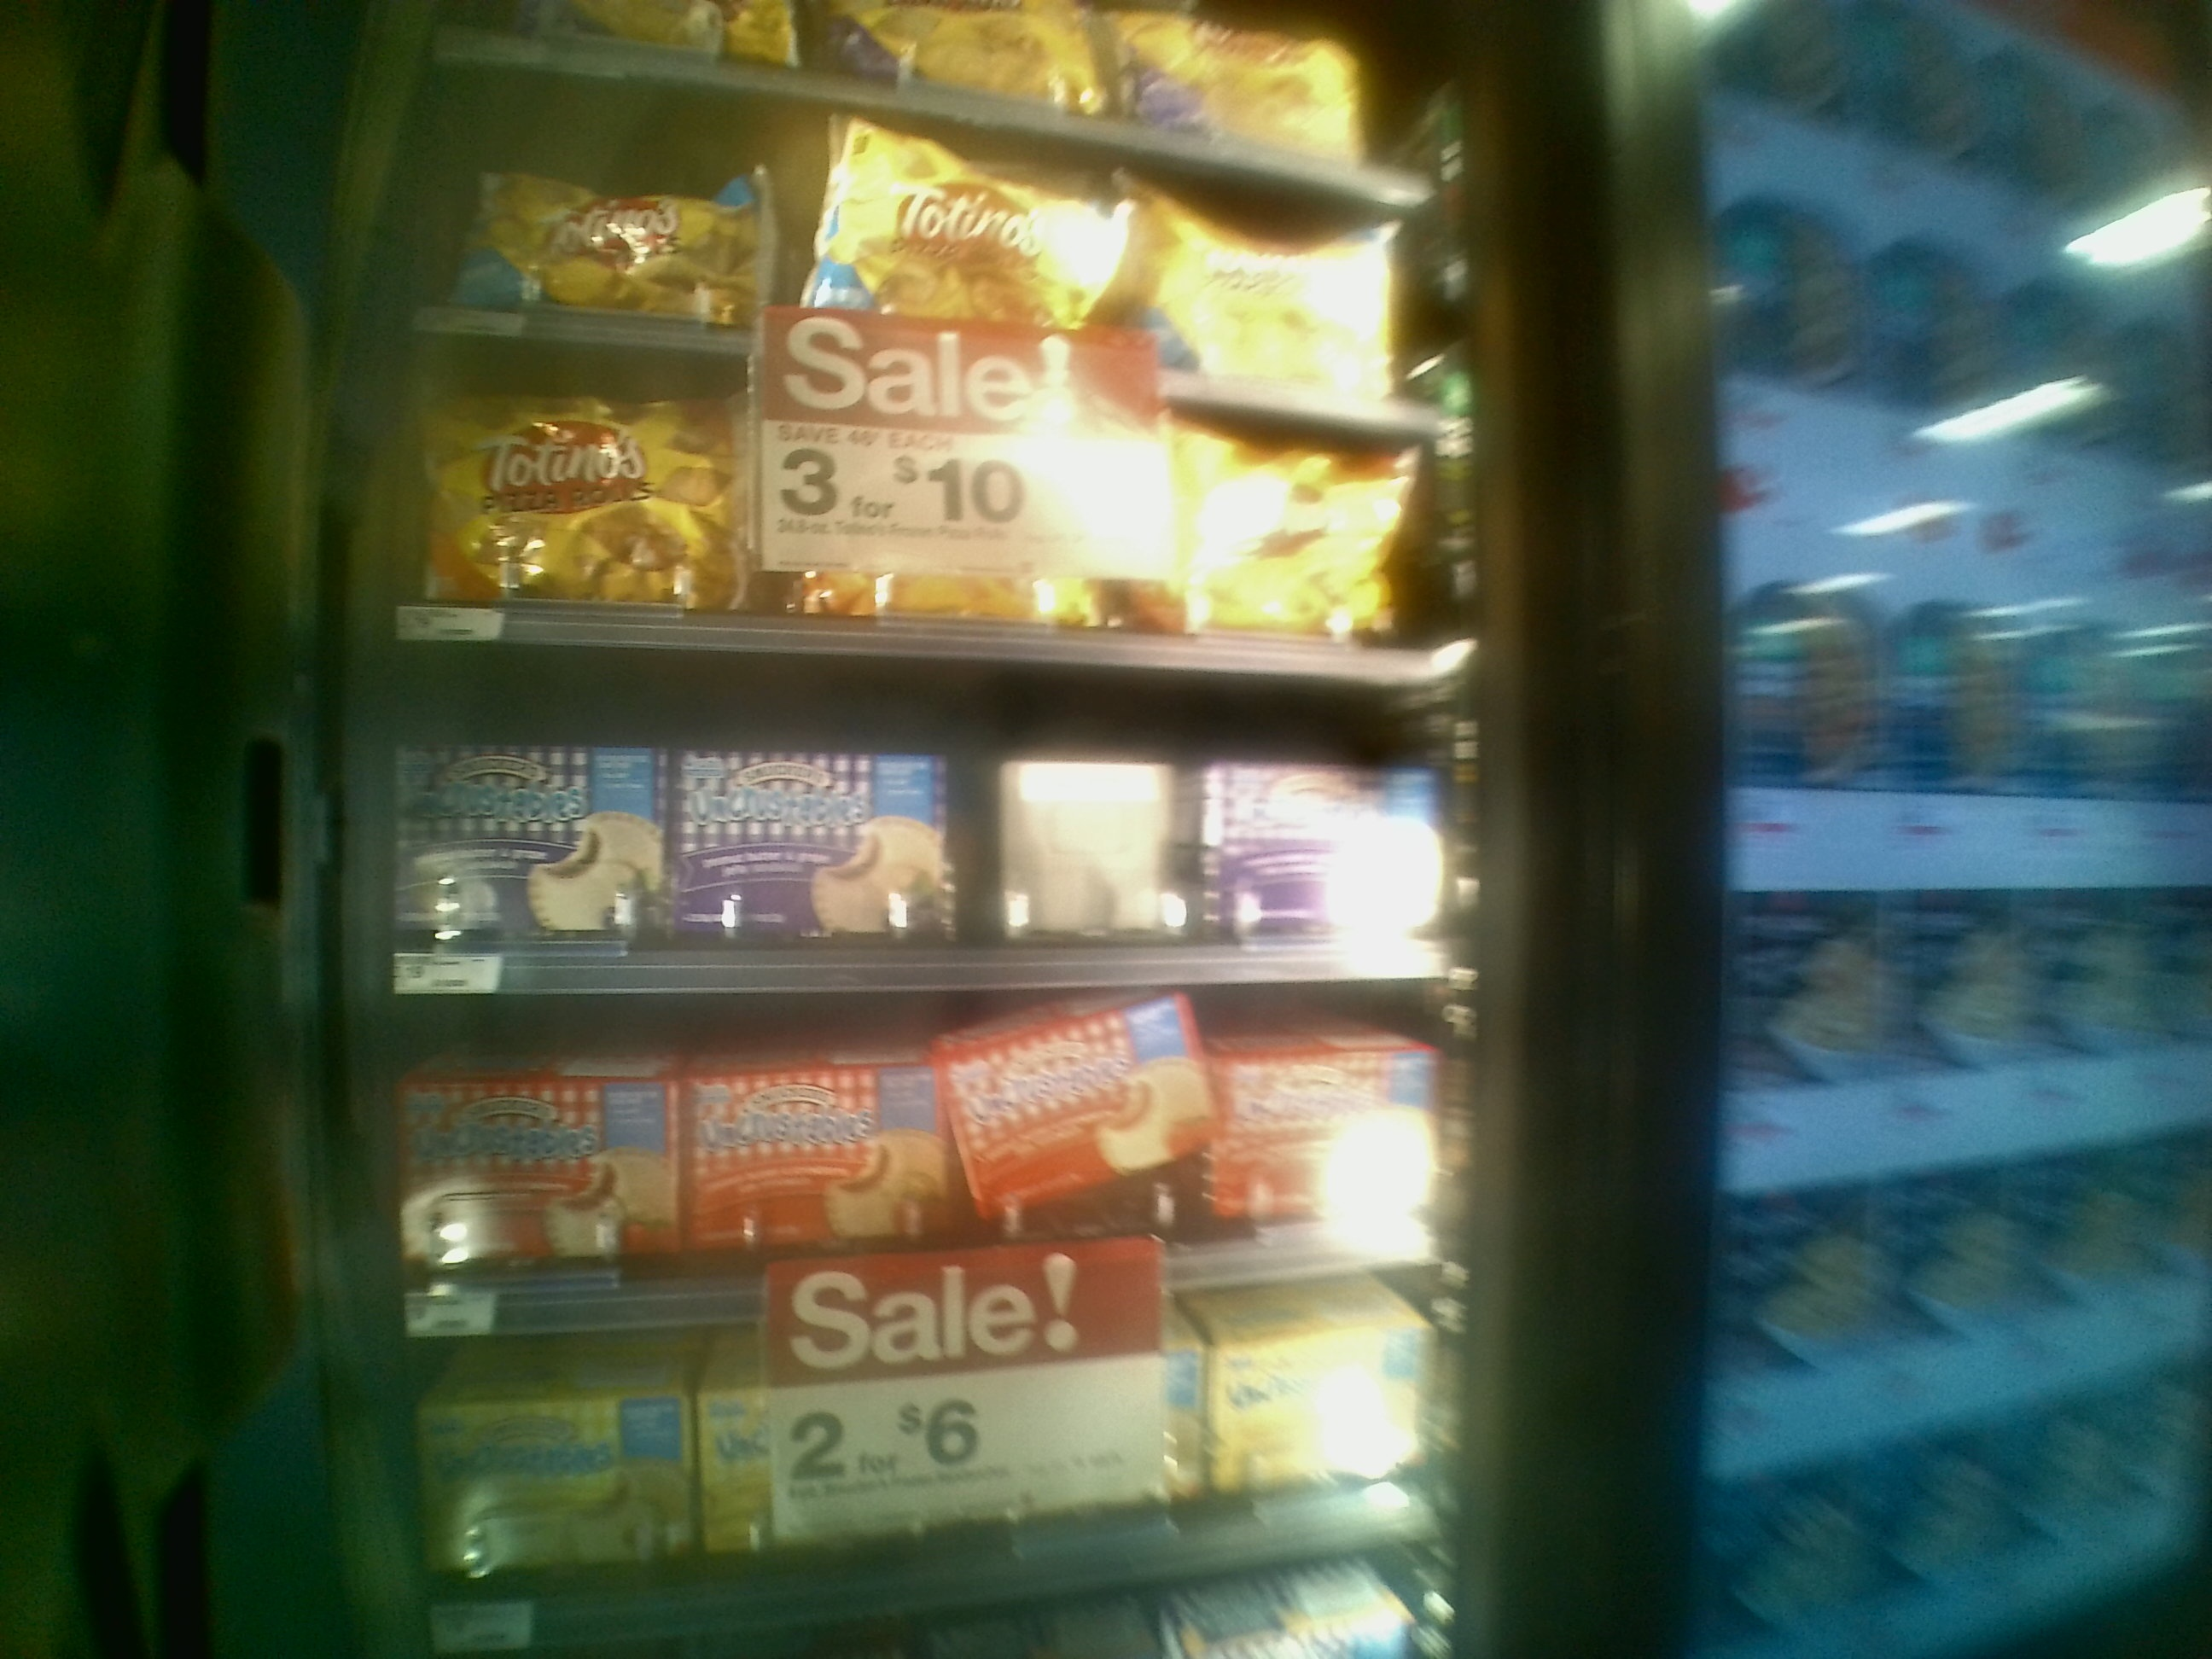shelf: (345, 636, 1465, 999), (341, 993, 1456, 1305)
